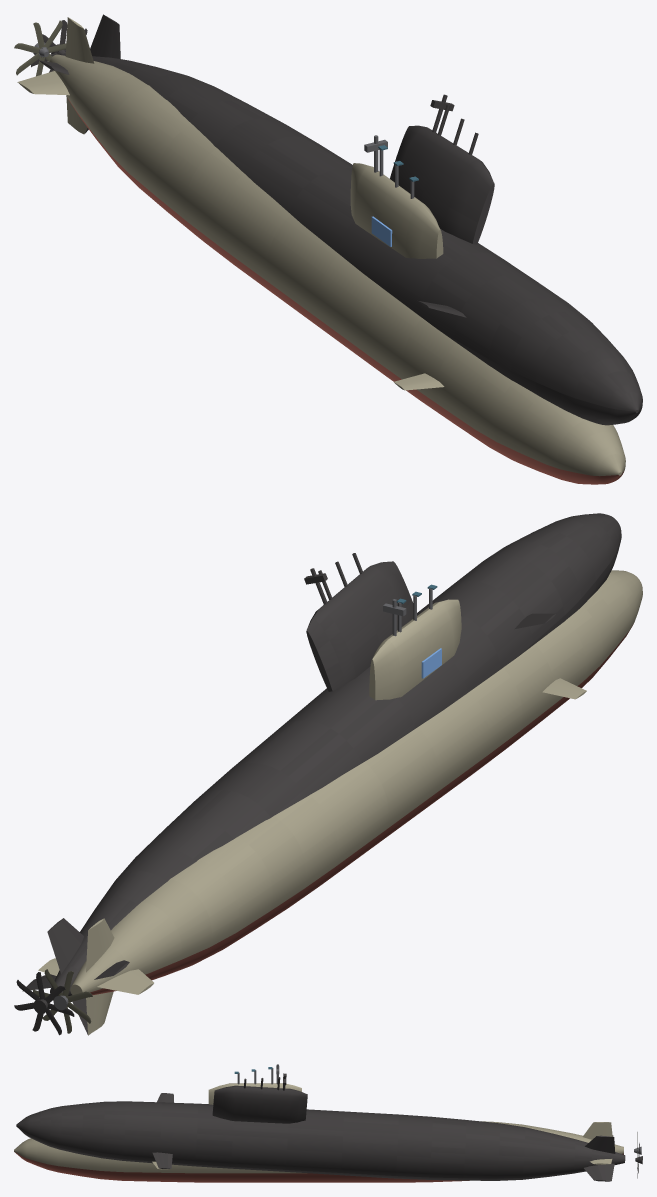
The model's file is submarine__nagapasa_class.glb.
3 renders of one model, top to bottom at view 1: azimuth 30°, elevation 25°; view 2: azimuth 150°, elevation 25°; view 3: azimuth 270°, elevation 25°, orthographic. The views are drawn at different scales.
Parts seen in each view (by area): view 1: Hull_Mesh, Wreck; view 2: Hull_Mesh, Wreck; view 3: Wreck, Hull_Mesh.
Boxes of the visible parts, x1,y1,x2,y2 form: Hull_Mesh: (14, 17, 625, 484); Wreck: (31, 14, 642, 425); Hull_Mesh: (33, 570, 642, 1034); Wreck: (14, 513, 621, 1035); Wreck: (16, 1073, 642, 1181); Hull_Mesh: (14, 1067, 641, 1182).
Size of what is drawn, in the model's own units: 10.88 by 13.31 by 60.69.
